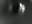person: (20, 3, 26, 16), (9, 3, 14, 15)
